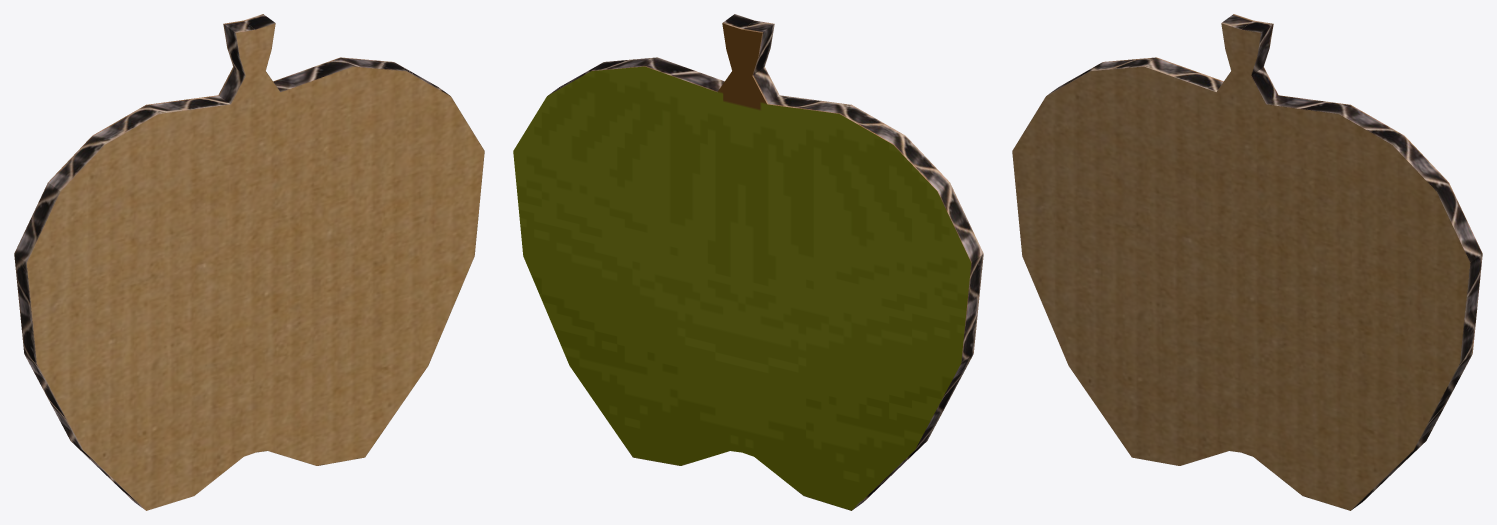
File: MANZANA_A.glb
The picture shows the model from 3 angles, left to right: view 1: azimuth 30°, elevation 25°; view 2: azimuth 150°, elevation 25°; view 3: azimuth 330°, elevation 25°; orthographic projection.
Visible parts, largest first — view 1: MANZANA; view 2: MANZANA; view 3: MANZANA.
Part boxes in pixels (x1,y1,x2,y2): MANZANA: [14, 14, 484, 510]; MANZANA: [513, 14, 983, 510]; MANZANA: [1012, 14, 1482, 510].
Bounding box in the file's own units: 1.67 × 1.59 × 0.0787.
1 material, 1 textured.
